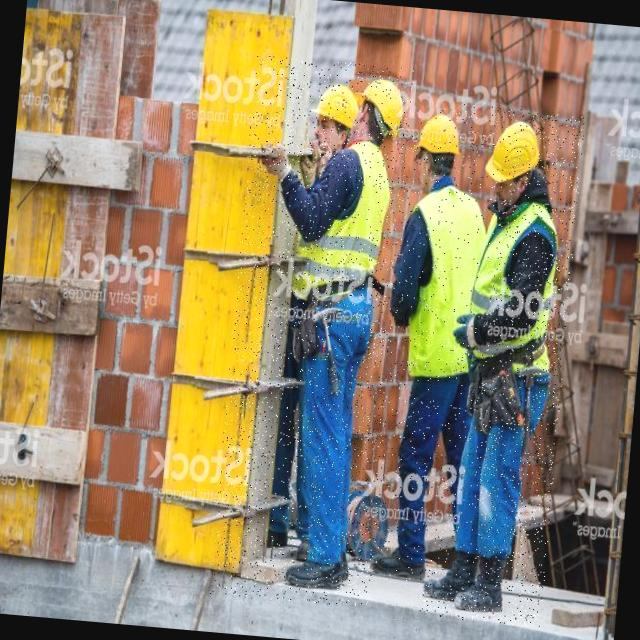boots: (453, 552, 508, 612), (421, 551, 474, 604), (282, 551, 350, 590), (368, 537, 425, 580)
helmet: (481, 119, 541, 188), (356, 76, 404, 136), (409, 115, 460, 168), (308, 82, 358, 132)
vest: (392, 184, 487, 382), (461, 199, 564, 379), (294, 138, 394, 320)
